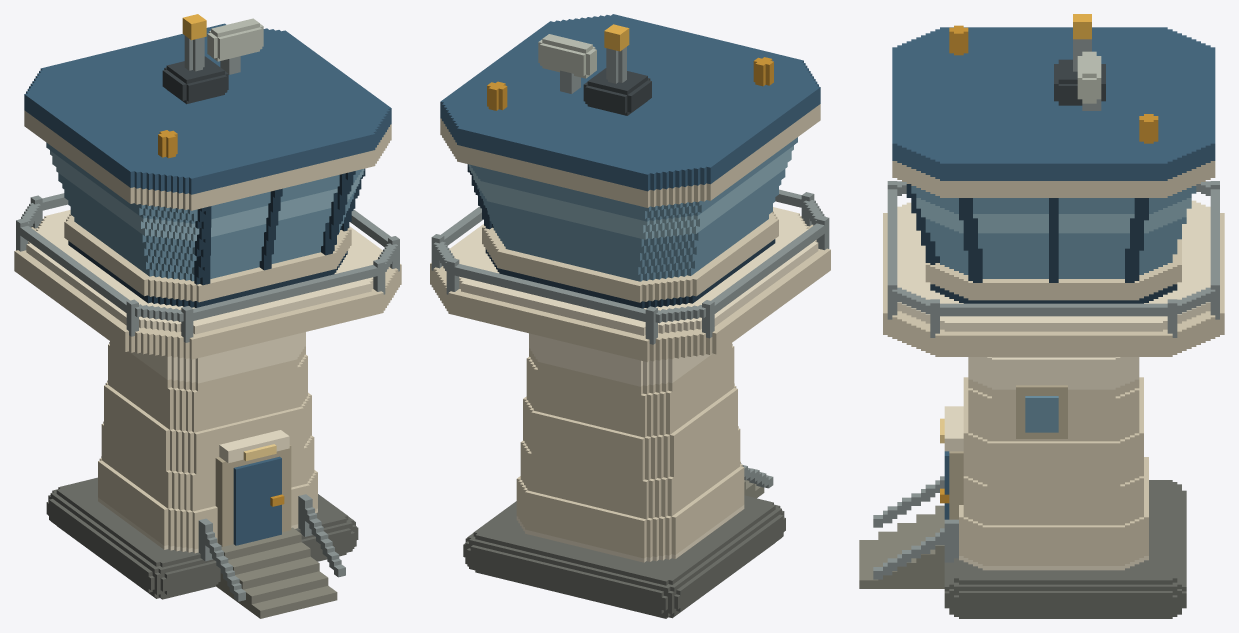
The model's file is control_tower.glb.
3 renders of one model, left to right at view 1: azimuth 30°, elevation 25°; view 2: azimuth 150°, elevation 25°; view 3: azimuth 270°, elevation 25°, orthographic. The views are drawn at different scales.
Parts seen in each view (by area): view 1: control_tower; view 2: control_tower; view 3: control_tower.
Boxes of the visible parts, left/top/right/bottom form: control_tower: left=14, top=14, right=401, bottom=618; control_tower: left=430, top=14, right=830, bottom=618; control_tower: left=859, top=14, right=1224, bottom=618.
Bounding box in the file's own units: 3.6 × 6.4 × 3.85.
